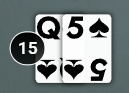5: (62, 14, 88, 42)
q: (34, 14, 63, 44)
